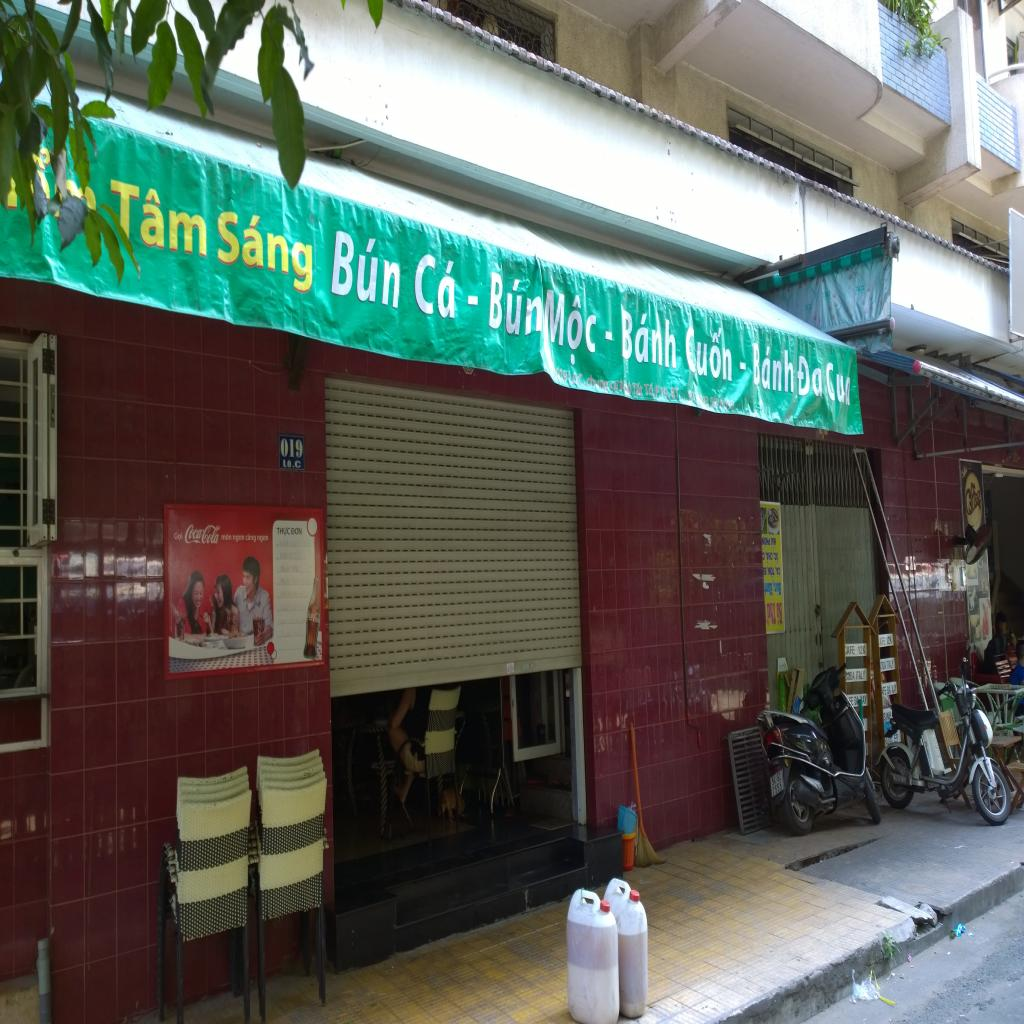text: (216, 203, 313, 295), (108, 175, 207, 259), (330, 224, 402, 312), (542, 287, 598, 371), (487, 271, 544, 342), (621, 306, 677, 370), (684, 317, 734, 383), (413, 249, 456, 322), (751, 340, 795, 395), (826, 359, 852, 409), (796, 354, 824, 399), (280, 438, 304, 460), (200, 523, 222, 546), (184, 523, 204, 546), (766, 601, 777, 627), (776, 602, 784, 626), (771, 771, 782, 788), (276, 526, 291, 538), (772, 781, 783, 797), (282, 458, 295, 470), (245, 532, 257, 544), (773, 580, 782, 596), (765, 548, 774, 564), (761, 536, 771, 550), (855, 670, 866, 682), (311, 611, 320, 625), (233, 533, 245, 543), (766, 582, 774, 597), (770, 536, 778, 550), (855, 284, 866, 294), (846, 671, 856, 682), (174, 531, 183, 543), (257, 535, 269, 544), (883, 710, 892, 722), (222, 532, 232, 542), (767, 566, 775, 578), (879, 636, 887, 648), (886, 658, 894, 670), (773, 550, 779, 565), (291, 528, 302, 536), (847, 645, 855, 656), (858, 645, 866, 656), (775, 565, 781, 579), (294, 460, 302, 470), (886, 635, 893, 646), (862, 694, 868, 706), (881, 660, 887, 672), (891, 683, 897, 695), (804, 303, 811, 313), (854, 696, 860, 706), (887, 683, 892, 695), (308, 613, 315, 621), (894, 733, 899, 743), (822, 291, 828, 299), (764, 566, 768, 577), (762, 551, 766, 562), (883, 686, 887, 696), (961, 468, 964, 480), (851, 696, 854, 706)
